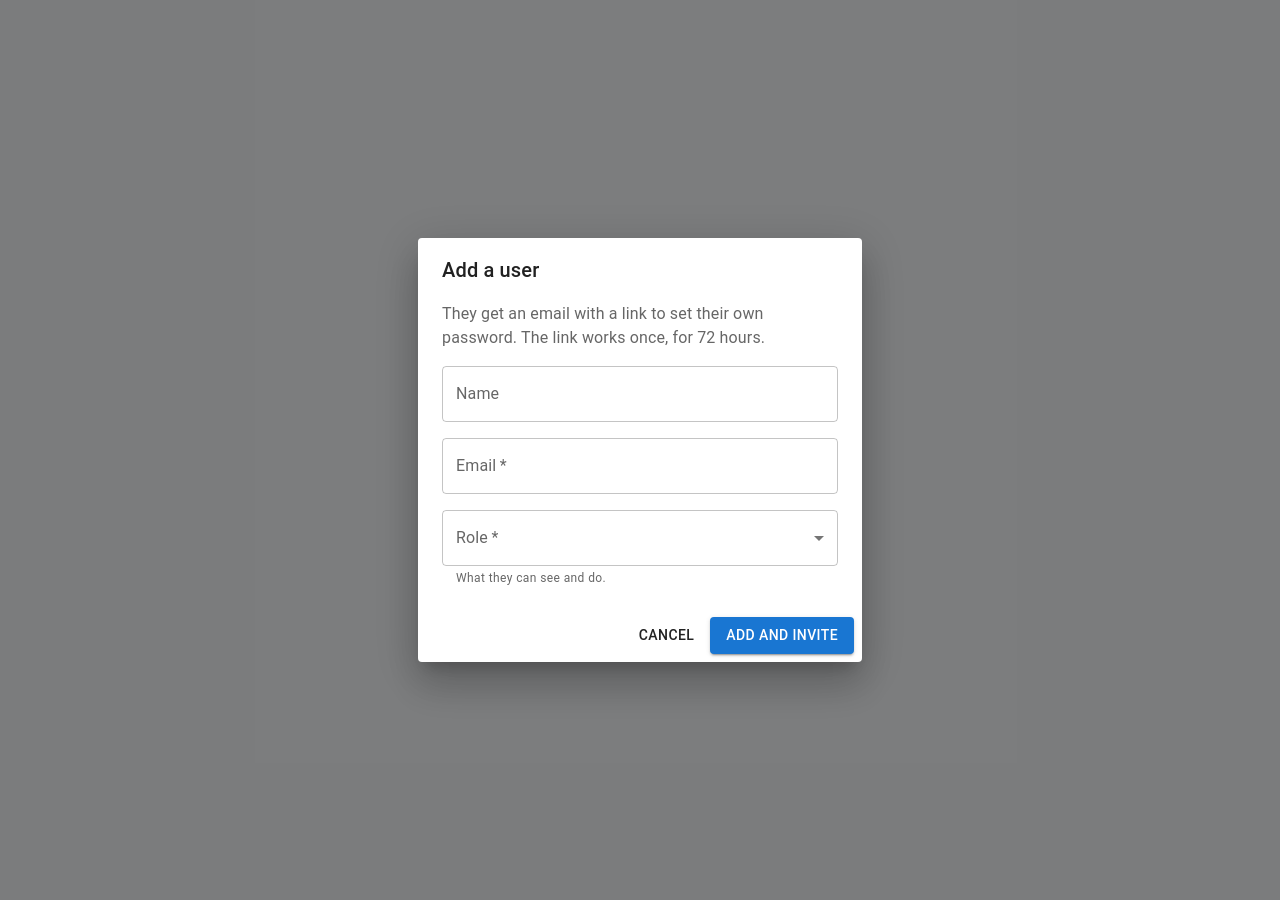
Test: AddUserDialog › needs a valid email and a role first
Type "not-an-email" into the field labelled "Email *" at coordinates (640, 466), box [442,438,838,494]
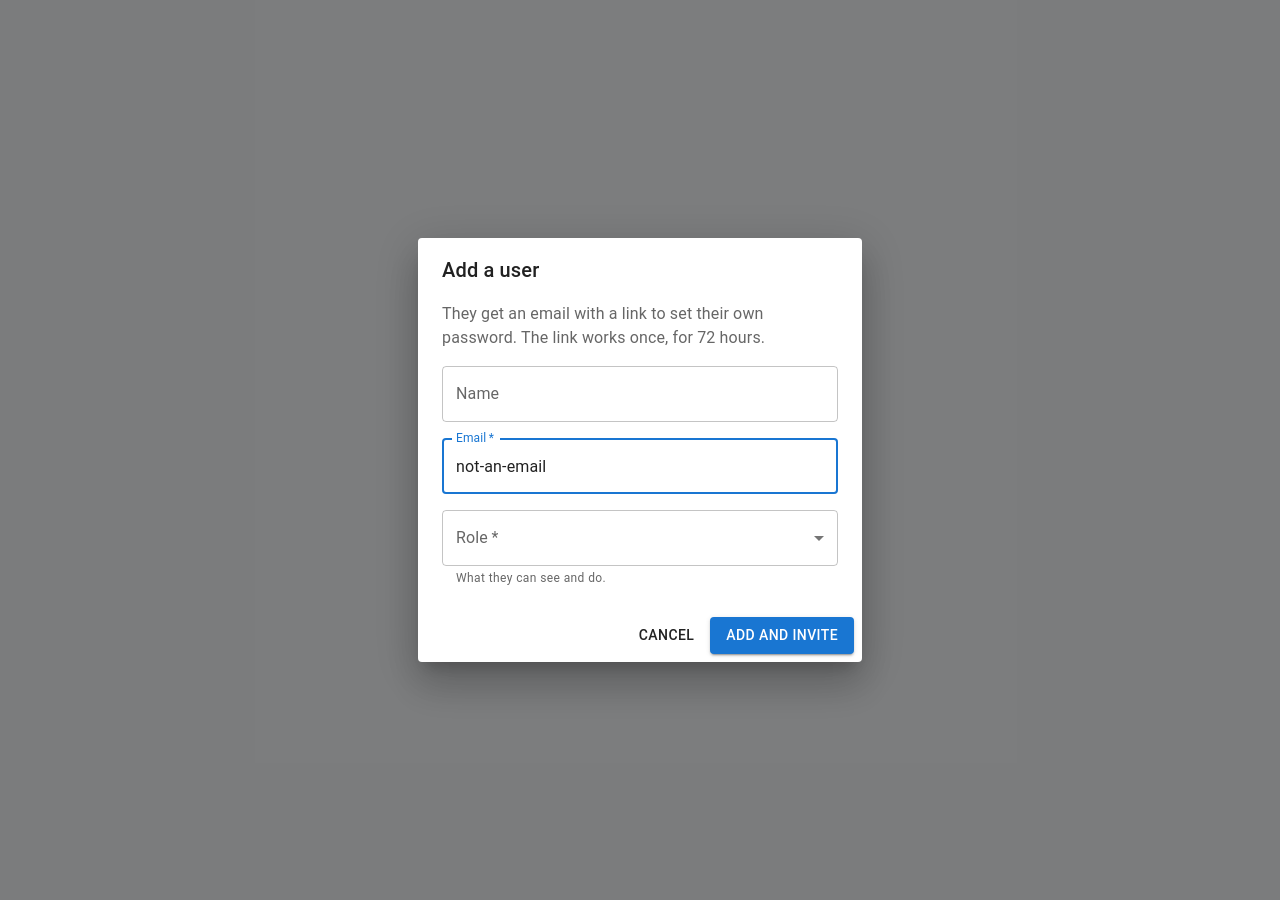
Click the button "Add and invite" at coordinates (782, 635), box [710,617,854,654]
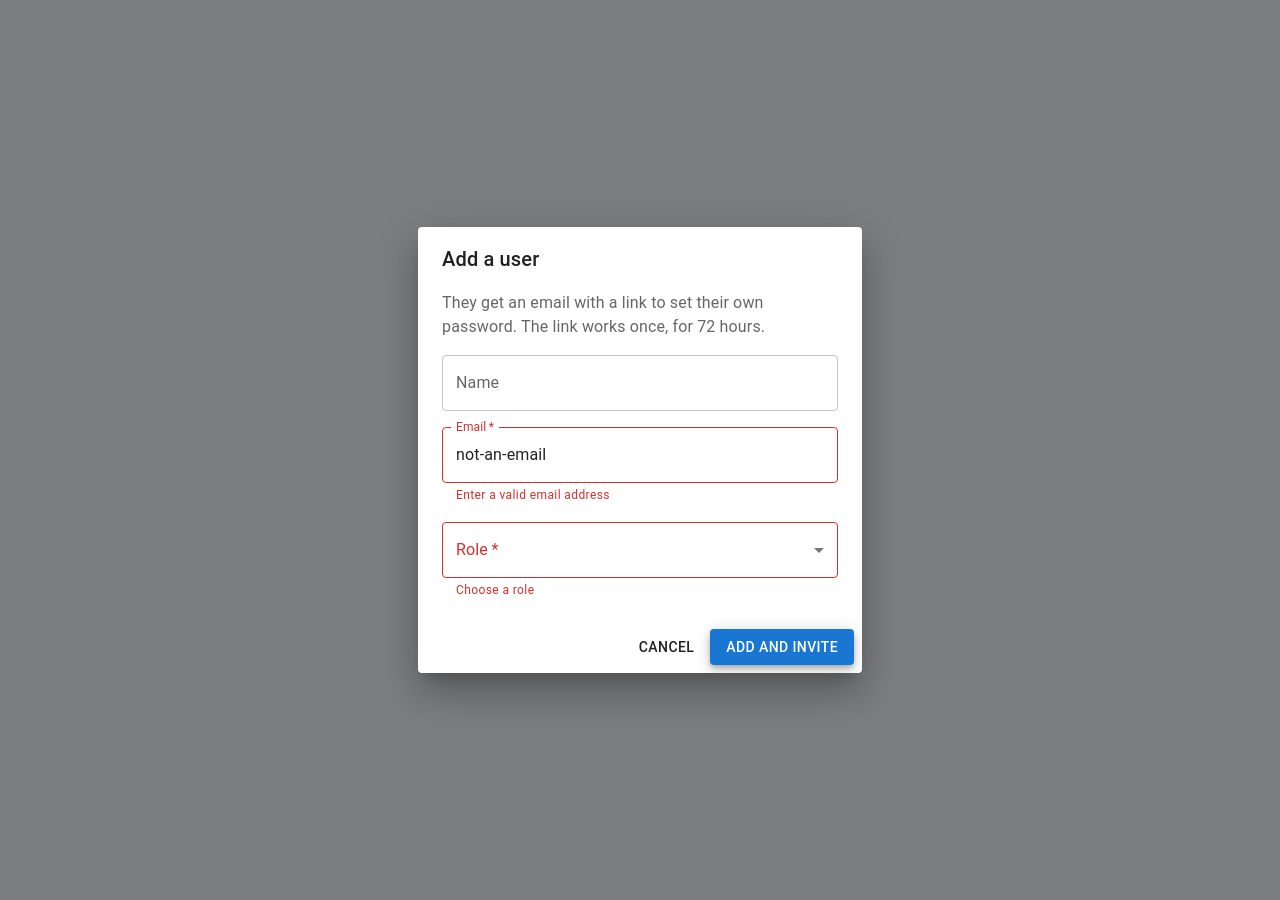
Expected: the text "Enter a valid email address" is shown, [456,488,610,502]
Expected: the text "Choose a role" is shown, [456,583,534,597]
